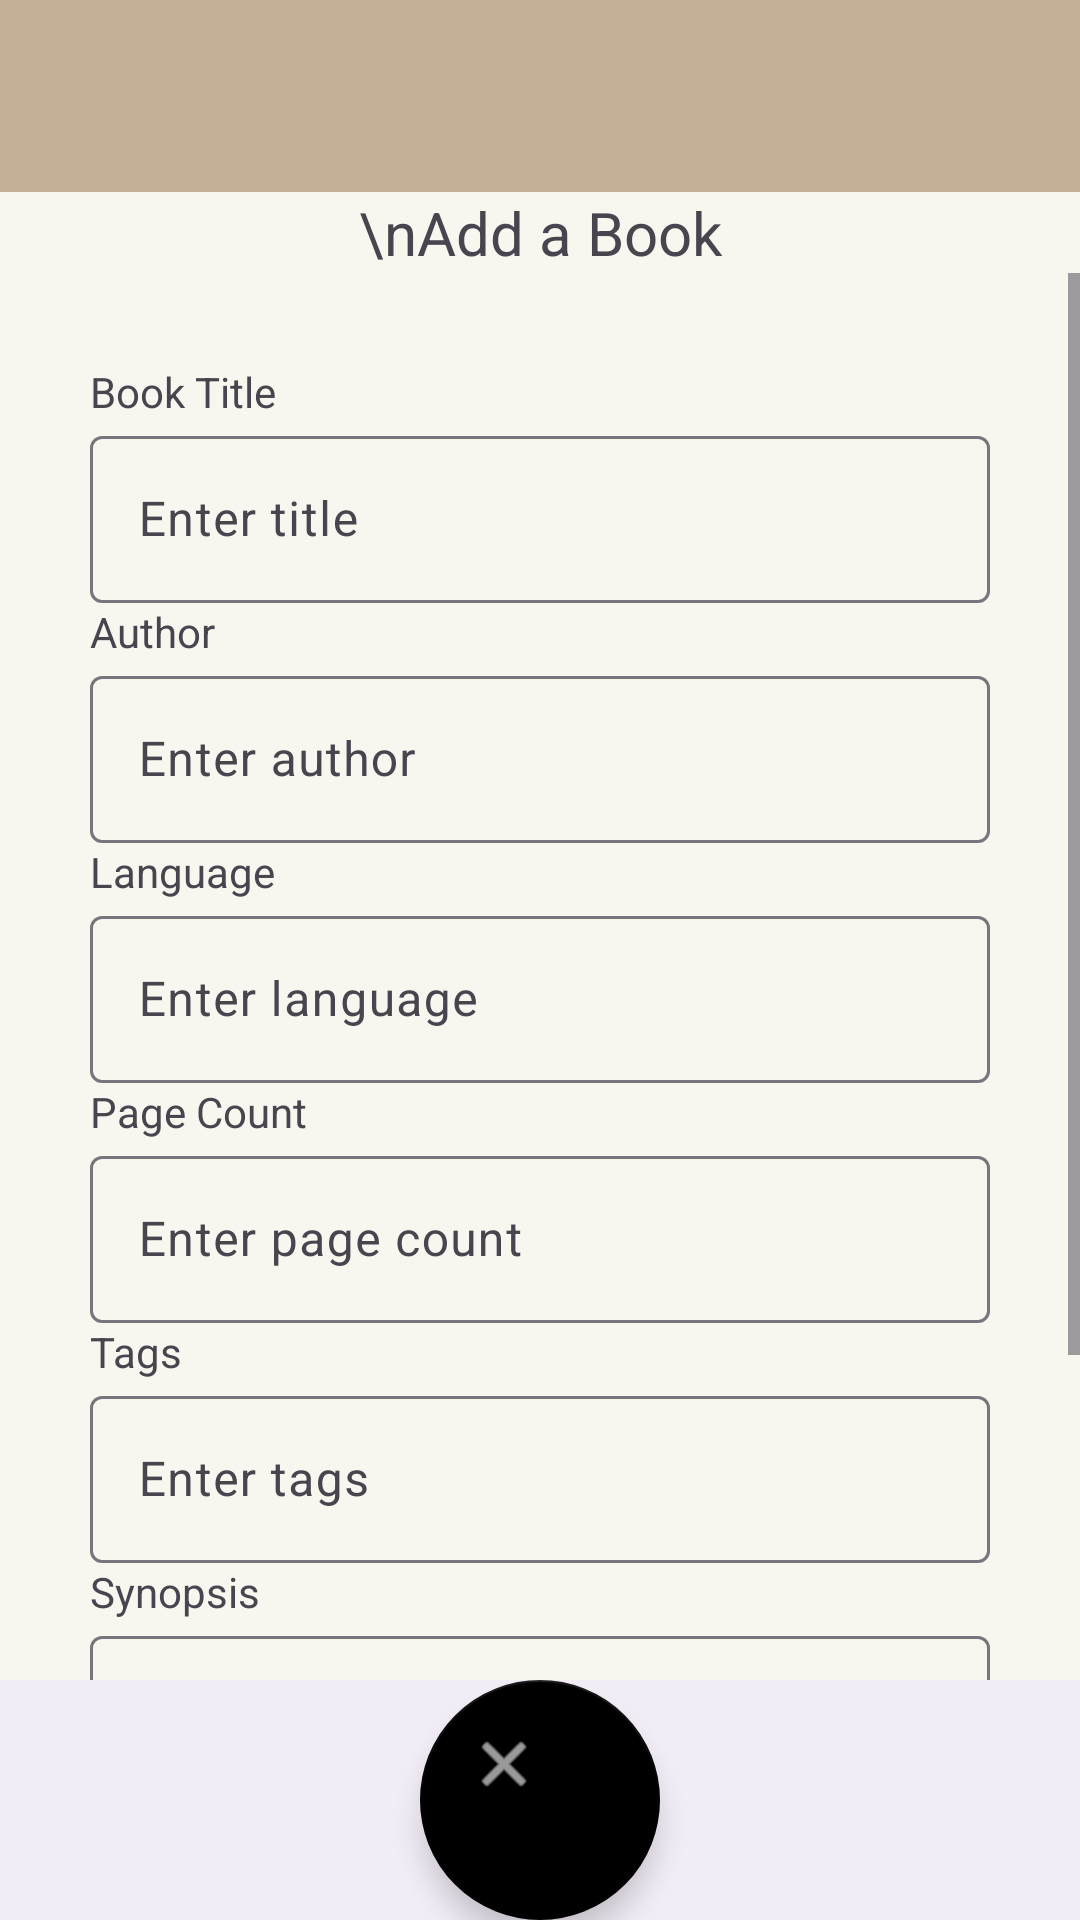

Where icons sit on this 1080 x 1920 app screen, as box=[x1, y1, x2, y2]:
Cancel: box=[420, 1680, 660, 1920]
